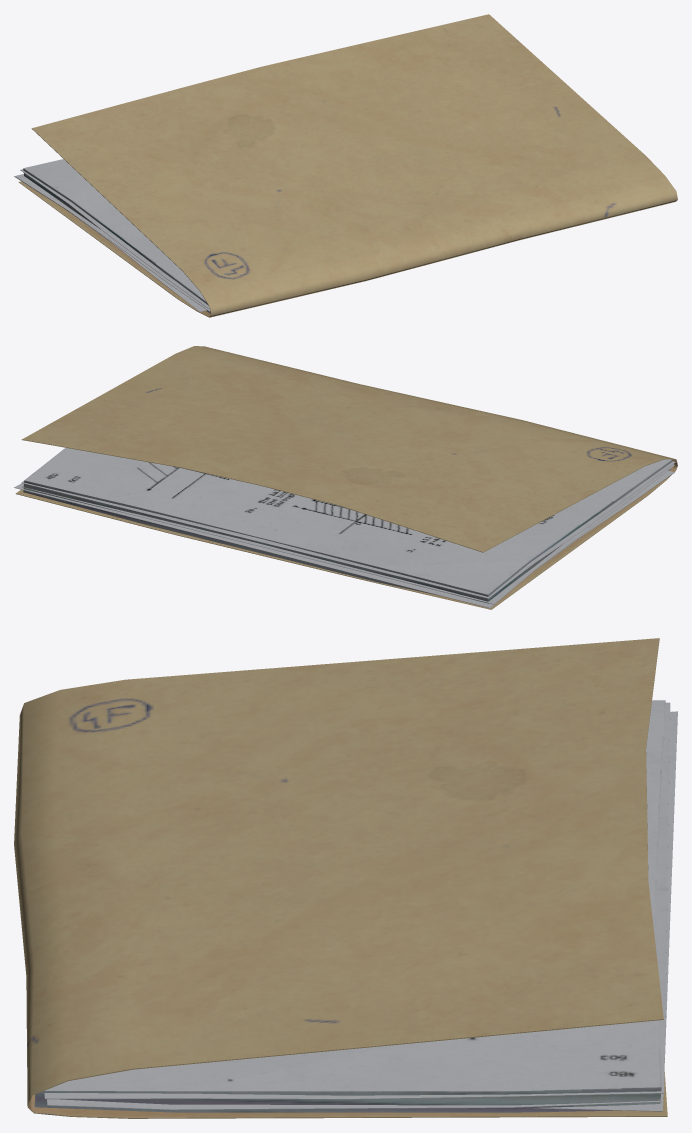
Rendered from SM_Folder_Stack_01e.fbx.
The picture shows the model from 3 angles, top to bottom: view 1: azimuth 30°, elevation 25°; view 2: azimuth 150°, elevation 25°; view 3: azimuth 270°, elevation 25°; orthographic projection. The views are drawn at different scales.
Parts seen in each view (by area): view 1: SM_Folder_Stack_01e_LOD0; view 2: SM_Folder_Stack_01e_LOD0; view 3: SM_Folder_Stack_01e_LOD0.
Boxes of the visible parts, x1,y1,x2,y2 form: SM_Folder_Stack_01e_LOD0: (14,14,677,317); SM_Folder_Stack_01e_LOD0: (14,346,677,609); SM_Folder_Stack_01e_LOD0: (14,638,677,1118).
Bounding box in the file's own units: 30.49 × 21.33 × 4.06.
1 material, 1 textured.
